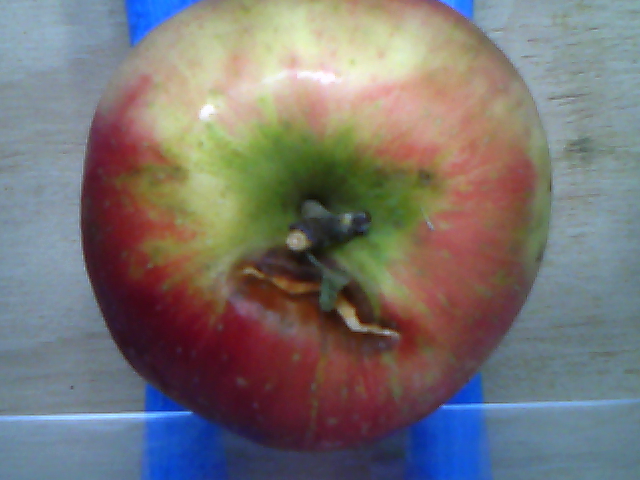cut: (235, 261, 323, 306), (333, 295, 405, 338)
